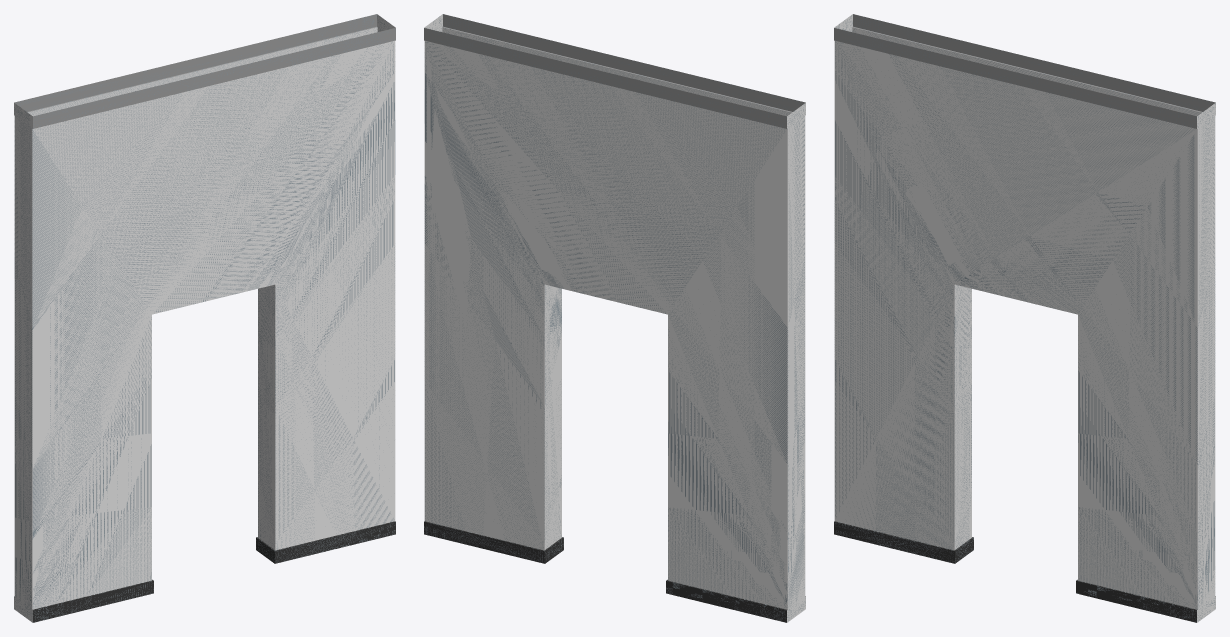
File: BlockWall_ds_plinth_[300x400]_102x220_doorway.dae
3 views of the same model, side by side, from view 1: azimuth 30°, elevation 25°; view 2: azimuth 150°, elevation 25°; view 3: azimuth 330°, elevation 25° (orthographic).
Parts seen in each view (by area): view 1: group_0 (×5); view 2: group_0 (×5); view 3: group_0 (×5).
Part boxes in pixels (box(x1,y1,x2,y2)): group_0 (×5): box(14, 14, 395, 622); group_0 (×5): box(424, 14, 805, 622); group_0 (×5): box(834, 14, 1215, 622).
Bounding box in the file's own units: 118 × 10.63 × 157.
